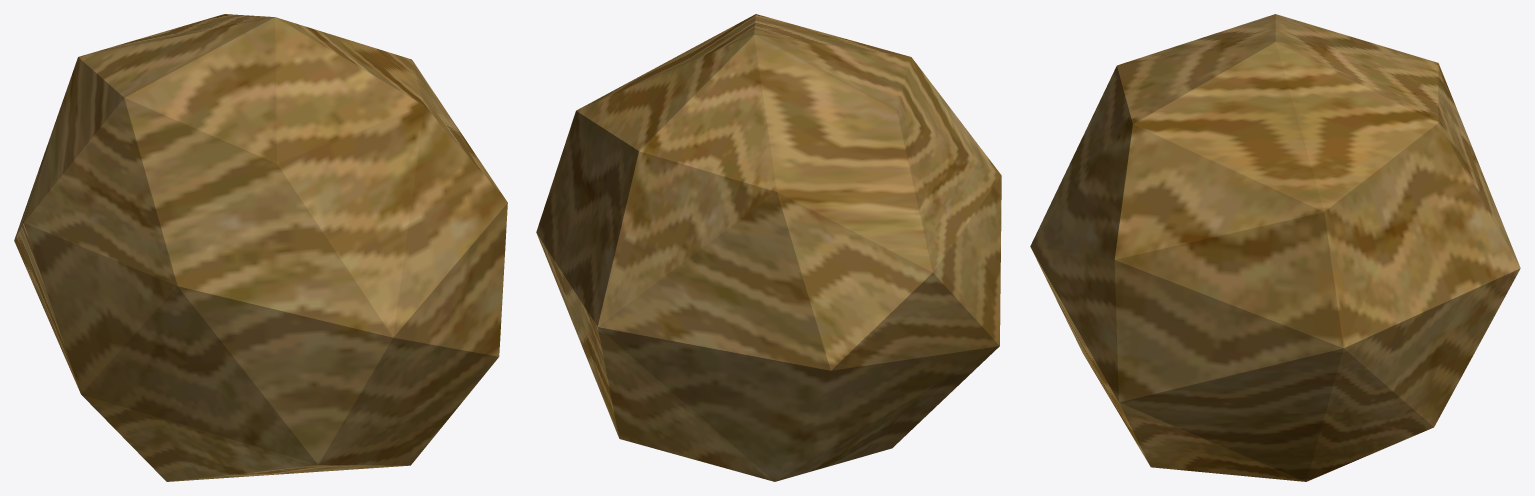
File: old_choco_64-rock2.glb
3 views of the same model, side by side, from view 1: azimuth 30°, elevation 25°; view 2: azimuth 150°, elevation 25°; view 3: azimuth 270°, elevation 25° (orthographic). The views are drawn at different scales.
Parts seen in each view (by area): view 1: rock2; view 2: rock2; view 3: rock2.
Boxes of the visible parts, <box> form: rock2: <box>14,14,507,481</box>; rock2: <box>536,14,1001,481</box>; rock2: <box>1030,14,1520,481</box>.
Bounding box in the file's own units: 3.55 × 3.56 × 3.79.
1 material, 1 textured.
